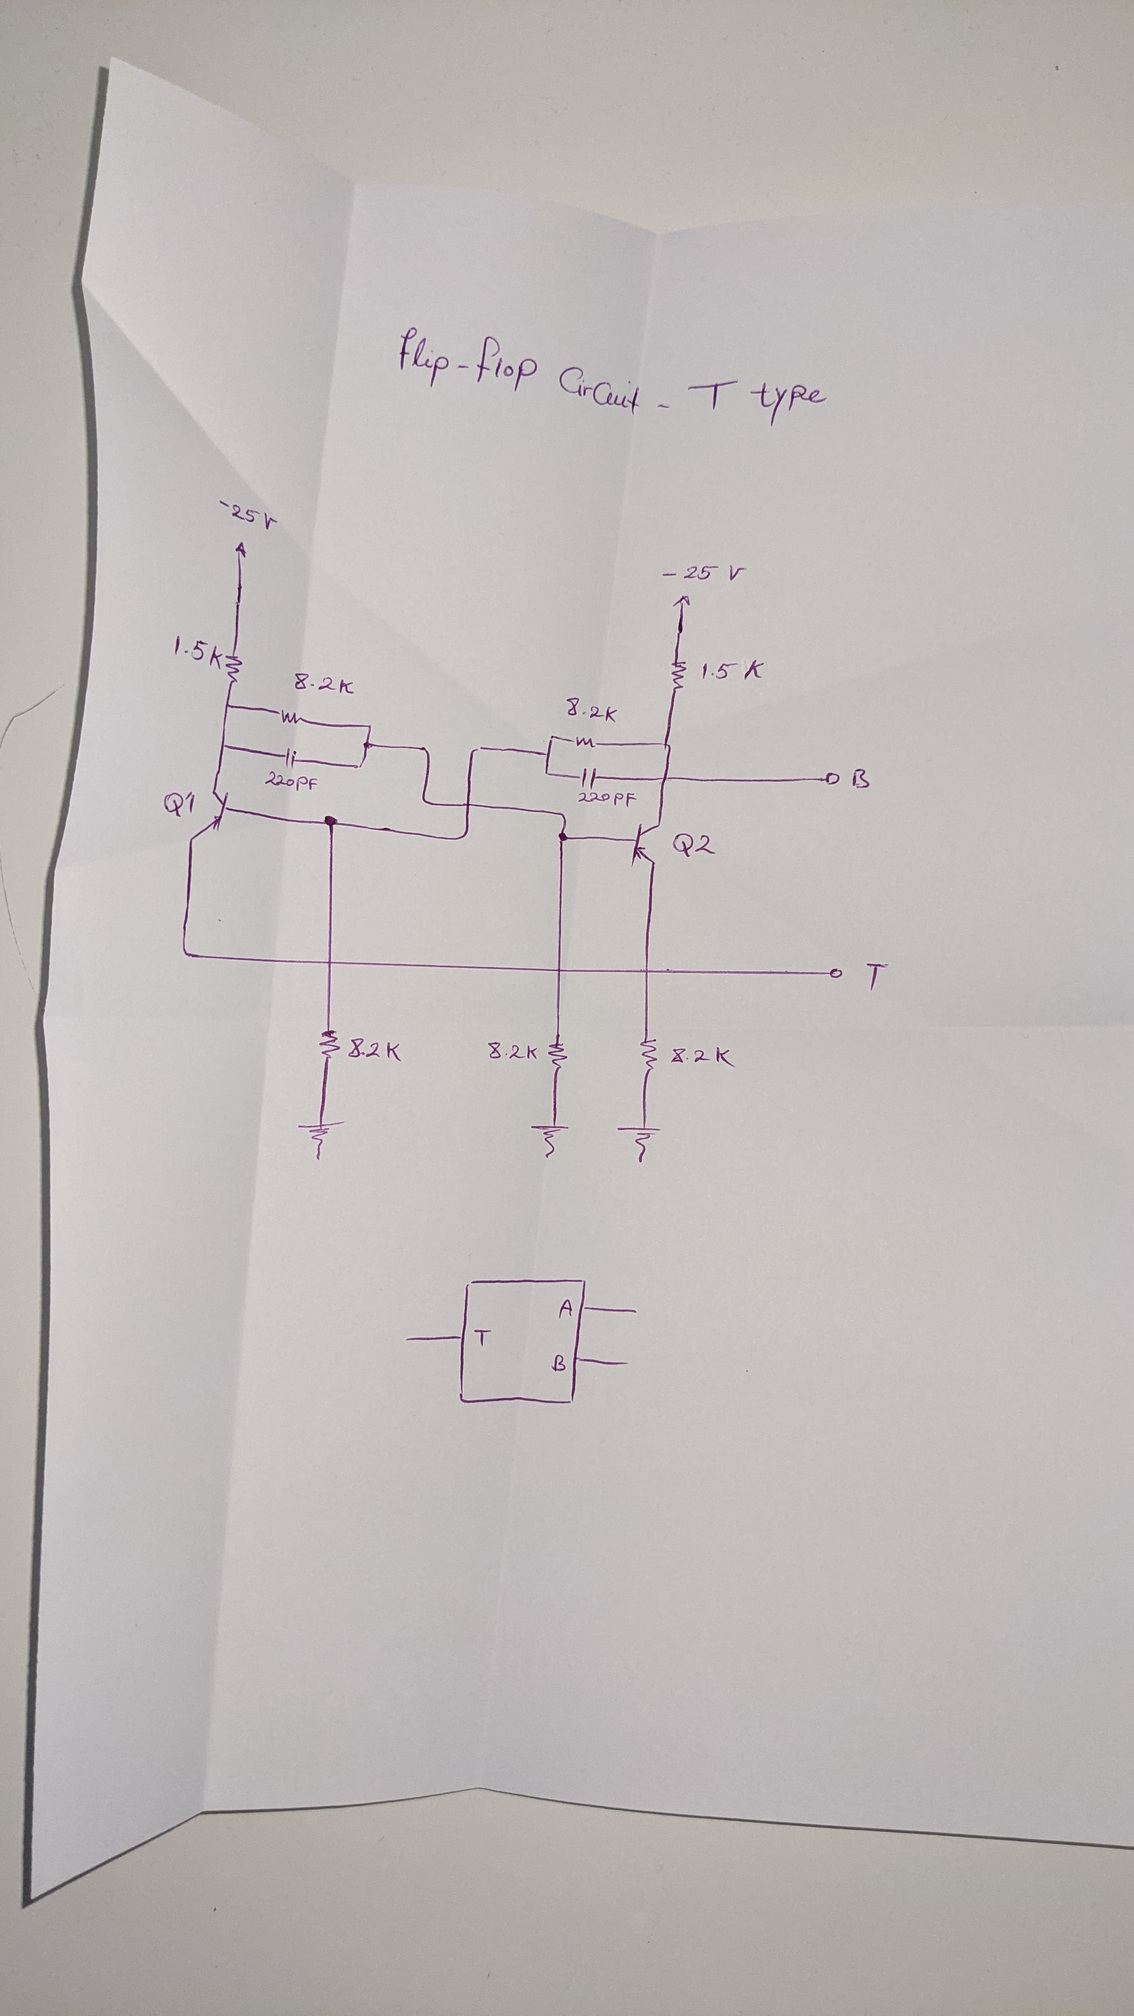capacitor.unpolarized: (576, 766, 600, 791), (281, 745, 300, 773)
crossover: (461, 799, 476, 811), (324, 955, 336, 968), (658, 773, 672, 784), (641, 966, 654, 976), (554, 965, 564, 973)
gnd: (295, 1117, 346, 1163), (613, 1123, 665, 1166), (528, 1122, 572, 1160)
integrated_circuit: (458, 1277, 588, 1405)
junction: (323, 814, 341, 828), (181, 946, 197, 960), (557, 829, 569, 845), (469, 744, 485, 756), (456, 829, 469, 842), (659, 739, 674, 750), (354, 757, 367, 770), (420, 796, 433, 807), (421, 745, 432, 757), (361, 739, 372, 750), (217, 741, 228, 752), (541, 768, 551, 778), (541, 750, 552, 759), (366, 721, 375, 730), (223, 701, 233, 709), (548, 732, 557, 742), (559, 811, 568, 820)
resistor: (318, 1027, 342, 1062), (546, 1038, 569, 1073), (638, 1036, 659, 1074), (667, 658, 688, 692), (223, 652, 244, 685), (569, 734, 601, 750), (274, 708, 303, 726)
terminal: (822, 771, 840, 786), (829, 966, 845, 980), (402, 1333, 413, 1344), (622, 1358, 633, 1368), (631, 1307, 641, 1315)
text: (396, 323, 829, 431), (216, 497, 282, 534), (170, 631, 223, 672), (660, 562, 750, 583), (699, 656, 767, 683), (564, 695, 620, 726), (669, 1045, 738, 1070), (292, 670, 357, 696), (346, 1036, 404, 1063), (670, 829, 719, 858), (263, 768, 318, 793), (487, 1038, 541, 1063), (576, 789, 638, 809), (161, 788, 198, 820), (863, 960, 892, 993), (850, 764, 872, 793), (472, 1326, 493, 1349), (550, 1353, 569, 1374), (557, 1297, 575, 1320)
transistor: (187, 791, 230, 842), (629, 821, 662, 870)
vss: (670, 593, 696, 611), (233, 539, 251, 559)
